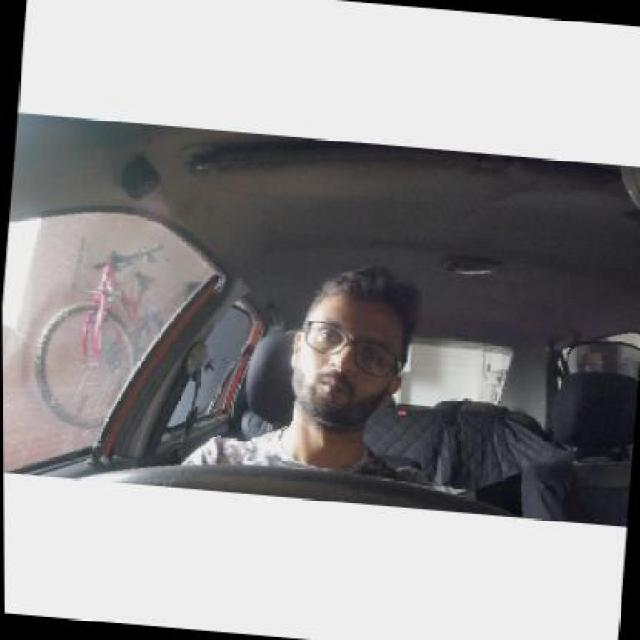person: (286, 259, 422, 446)
